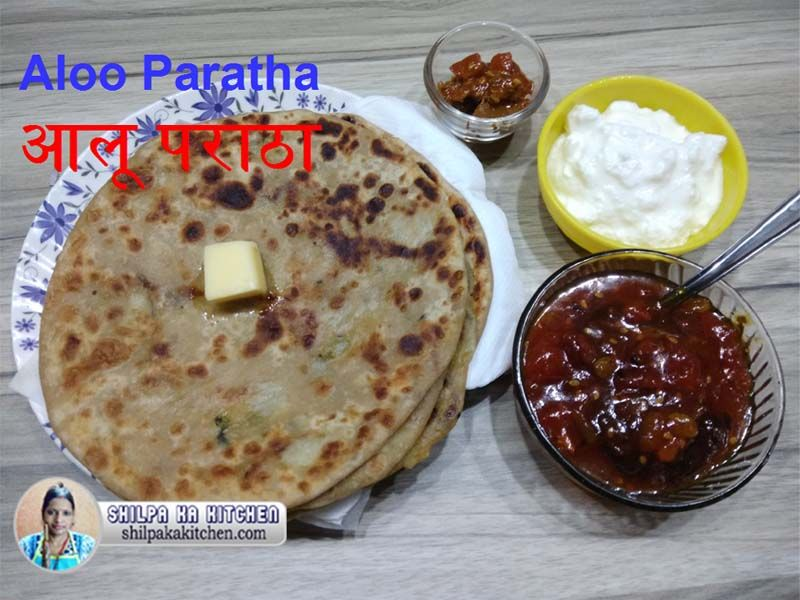aloo_paratha: (39, 110, 491, 503)
